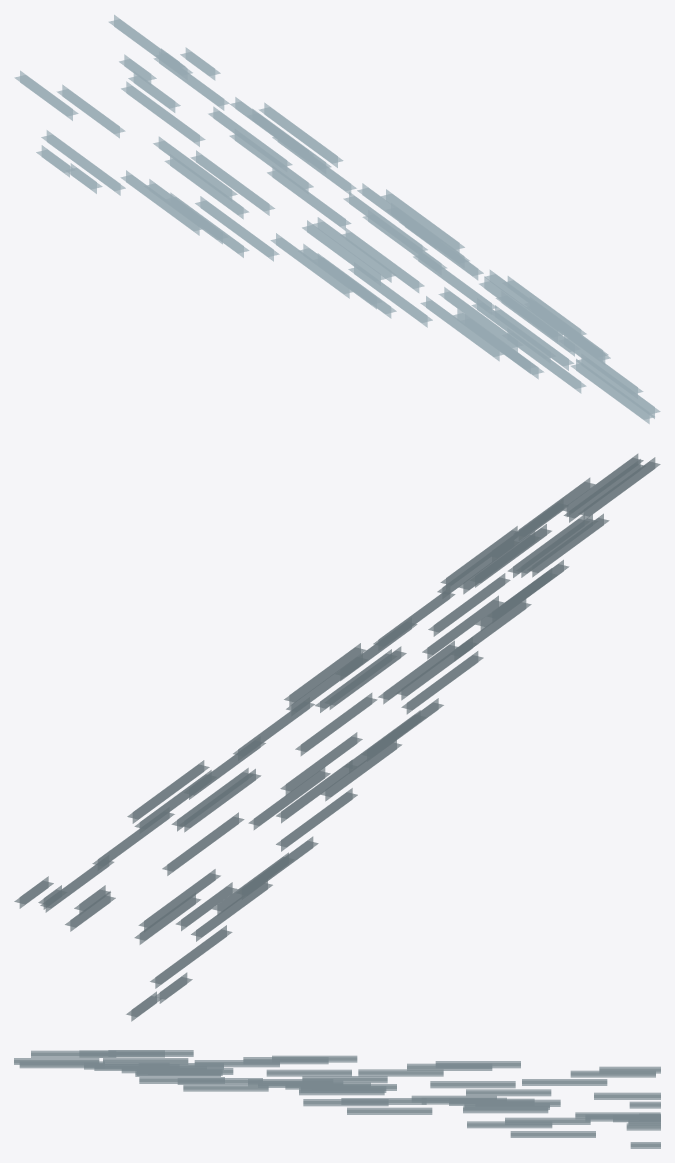
The model's file is wp_water_306.obj.
3 views of the same model, one above another, from view 1: azimuth 30°, elevation 25°; view 2: azimuth 150°, elevation 25°; view 3: azimuth 270°, elevation 25° (orthographic). The views are drawn at different scales.
Size of the model in its own units: 0.3333 by 0.3321 by 1.82.
Materials: 1 (1 with a texture image).
